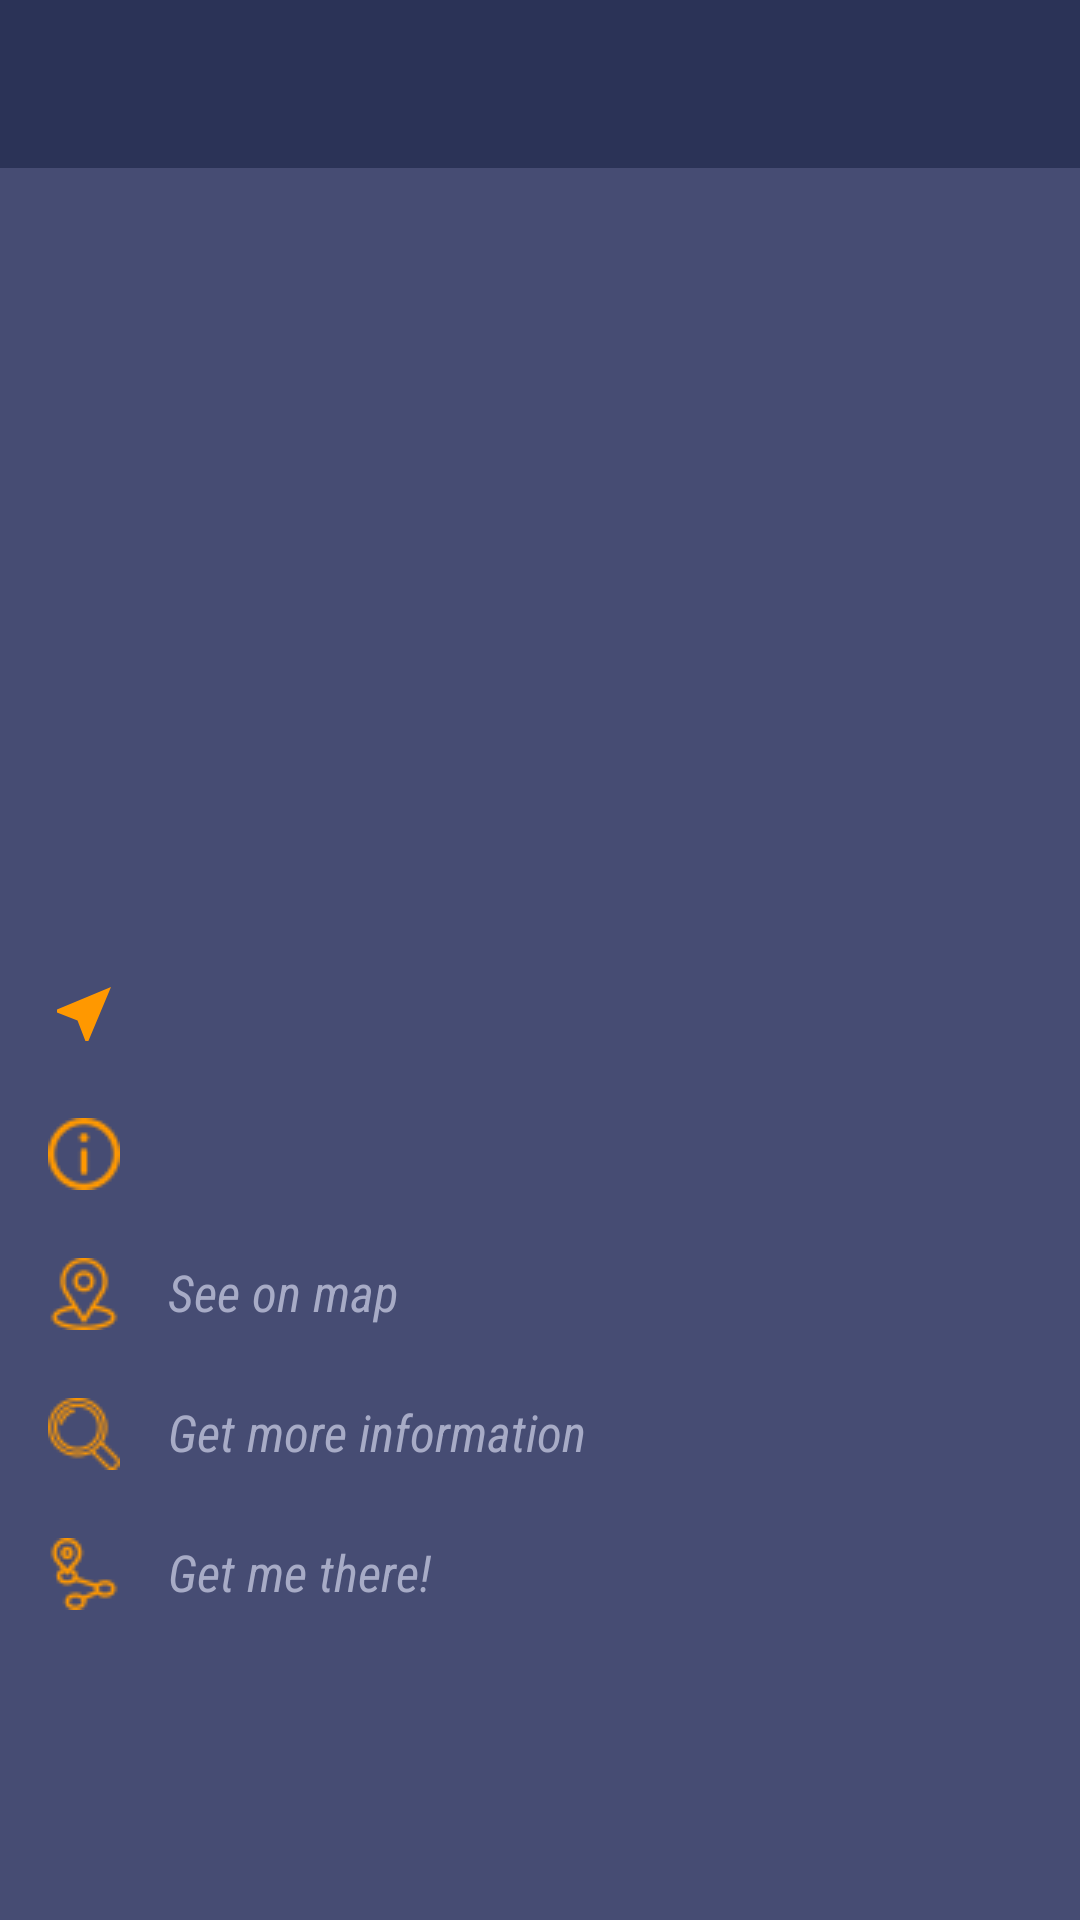

Screen size 1080 x 1920. Icon name, then its center in pixels as (x,y):
information: (84,1154)
location: (84,1294)
near me: (84,1014)
route: (84,1574)
search: (84,1434)
